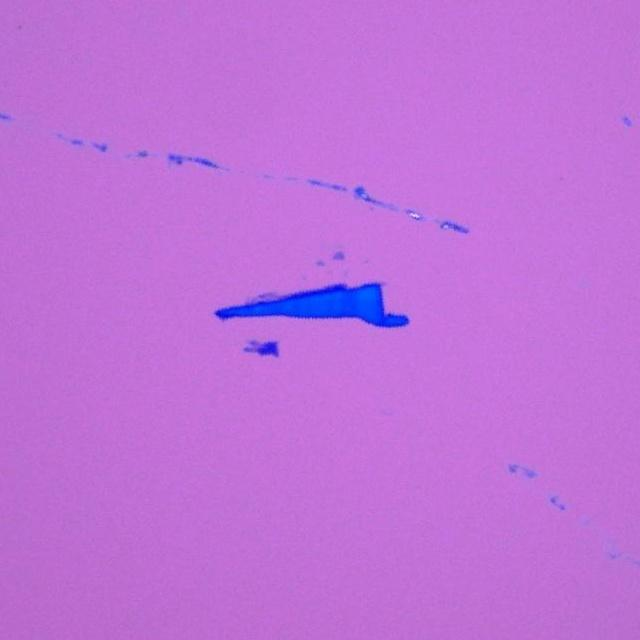monolayer-eWW4: (331, 251, 344, 261)
